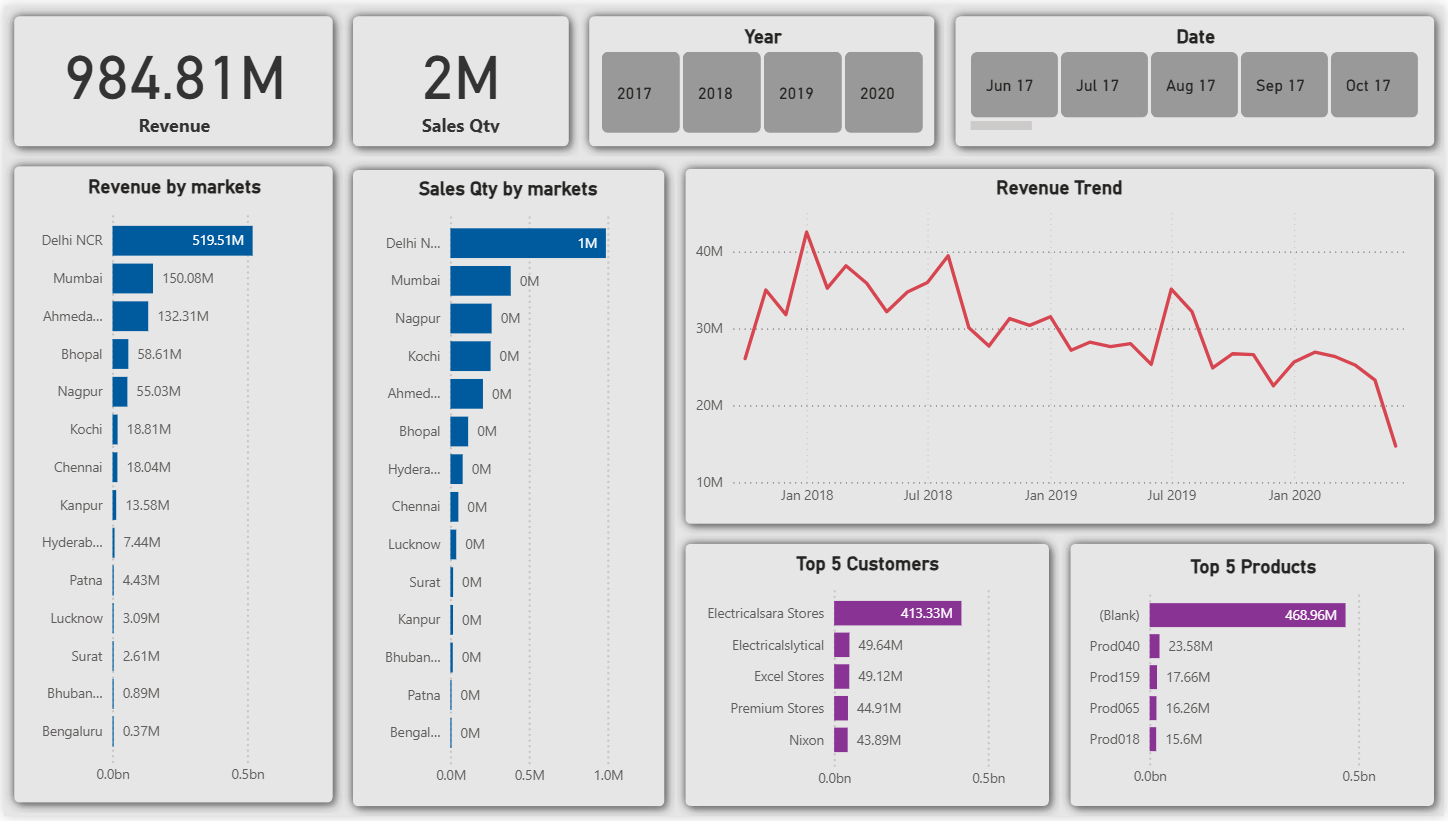

Layout of this report page (visuals, bound fields, positions):
{"tool":"powerbi","page":{"name":"Page 1","canvas":[1280,720],"ordinal":0},"visuals":[{"type":"shape","box":[836.2,0,443.8,133.8],"z":0},{"type":"shape","box":[511.2,0,325,133.8],"z":1000},{"type":"shape","box":[938.8,468.8,341.2,251.2],"z":2000},{"type":"shape","box":[596.2,468.8,341.2,251.2],"z":3000},{"type":"shape","box":[301.2,0,210,133.8],"z":4000},{"type":"shape","box":[0,0,301.2,133.8],"z":5000},{"type":"shape","box":[0,133.8,301.2,583.8],"z":6000},{"type":"shape","box":[301.2,136.2,295,583.8],"z":7000},{"type":"shape","box":[596.2,135,683.8,333.8],"z":8000},{"type":"card","fields":{"Values":["BaseMeasures.Revenue"]},"box":[16.2,16.2,270,101.2],"z":9000},{"type":"card","fields":{"Values":["BaseMeasures.Sales Qty"]},"box":[321.2,16.2,170,101.2],"z":10000},{"type":"barChart","title":"Revenue by markets","fields":{"Y":["BaseMeasures.Revenue"],"Category":["sales markets.markets_name"]},"box":[16.7,150,270,551.1],"z":11000},{"type":"barChart","title":"Sales Qty by markets","fields":{"Y":["BaseMeasures.Sales Qty"],"Category":["sales markets.markets_name"]},"box":[320,152.5,256.2,550],"z":12000},{"type":"advancedSlicerVisual","title":"Year","fields":{"Values":["sales date.year"]},"box":[526.2,16.2,296.2,101.2],"z":13000},{"type":"advancedSlicerVisual","title":"Date","fields":{"Values":["sales date.cy_date"]},"box":[854.4,16.7,410,101.1],"z":14000},{"type":"barChart","title":"Top 5 Customers","fields":{"Category":["sales customers.custmer_name"],"Y":["BaseMeasures.Revenue"]},"box":[611.1,485.6,312.2,218.9],"z":15000},{"type":"barChart","title":"Top 5 Products ","fields":{"Category":["sales products.product_code"],"Y":["BaseMeasures.Revenue"]},"box":[955.6,487.8,308.9,215.6],"z":16000},{"type":"lineChart","title":"Revenue Trend ","fields":{"Y":["BaseMeasures.Revenue"],"Category":["sales date.cy_date.Variation.Date Hierarchy.Year","sales date.cy_date.Variation.Date Hierarchy.Quarter","sales date.cy_date.Variation.Date Hierarchy.Month","sales date.cy_date.Variation.Date Hierarchy.Day"]},"box":[610,151.2,656.2,302.5],"z":17000}]}

Visuals, with their boxes in screenshot pixels (x1, y1, x2, y2), scaled from the page's 1280x720 canvas onto the 1448x821 screenshot:
shape: {"x1": 946, "y1": 0, "x2": 1447, "y2": 153}
shape: {"x1": 578, "y1": 0, "x2": 946, "y2": 153}
shape: {"x1": 1062, "y1": 535, "x2": 1447, "y2": 820}
shape: {"x1": 674, "y1": 535, "x2": 1060, "y2": 820}
shape: {"x1": 341, "y1": 0, "x2": 578, "y2": 153}
shape: {"x1": 0, "y1": 0, "x2": 341, "y2": 153}
shape: {"x1": 0, "y1": 153, "x2": 341, "y2": 818}
shape: {"x1": 341, "y1": 155, "x2": 674, "y2": 820}
shape: {"x1": 674, "y1": 154, "x2": 1447, "y2": 535}
card - BaseMeasures.Revenue: {"x1": 18, "y1": 18, "x2": 324, "y2": 134}
card - BaseMeasures.Sales Qty: {"x1": 363, "y1": 18, "x2": 556, "y2": 134}
"Revenue by markets" barChart: {"x1": 19, "y1": 171, "x2": 324, "y2": 799}
"Sales Qty by markets" barChart: {"x1": 362, "y1": 174, "x2": 652, "y2": 801}
"Year" advancedSlicerVisual: {"x1": 595, "y1": 18, "x2": 930, "y2": 134}
"Date" advancedSlicerVisual: {"x1": 967, "y1": 19, "x2": 1430, "y2": 134}
"Top 5 Customers" barChart: {"x1": 691, "y1": 554, "x2": 1044, "y2": 803}
"Top 5 Products " barChart: {"x1": 1081, "y1": 556, "x2": 1430, "y2": 802}
"Revenue Trend " lineChart: {"x1": 690, "y1": 172, "x2": 1432, "y2": 517}
